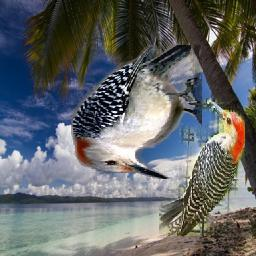Woodpecker: (72, 45, 203, 179), (159, 98, 245, 236)
